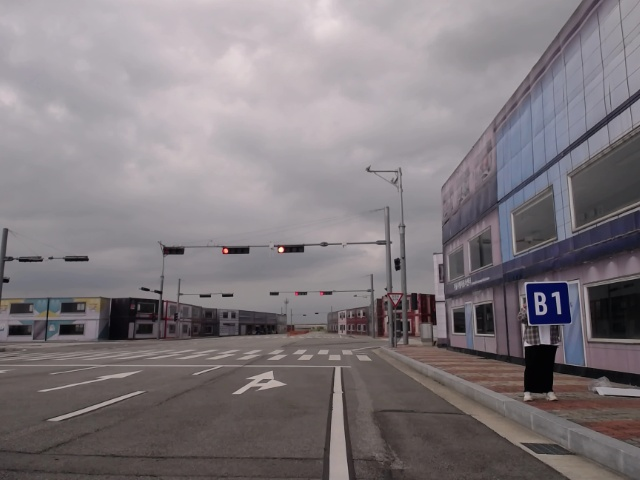delivery_b1: (525, 282, 572, 326)
red_4: (223, 247, 250, 254), (277, 245, 304, 252), (295, 291, 307, 295), (320, 291, 332, 295)
